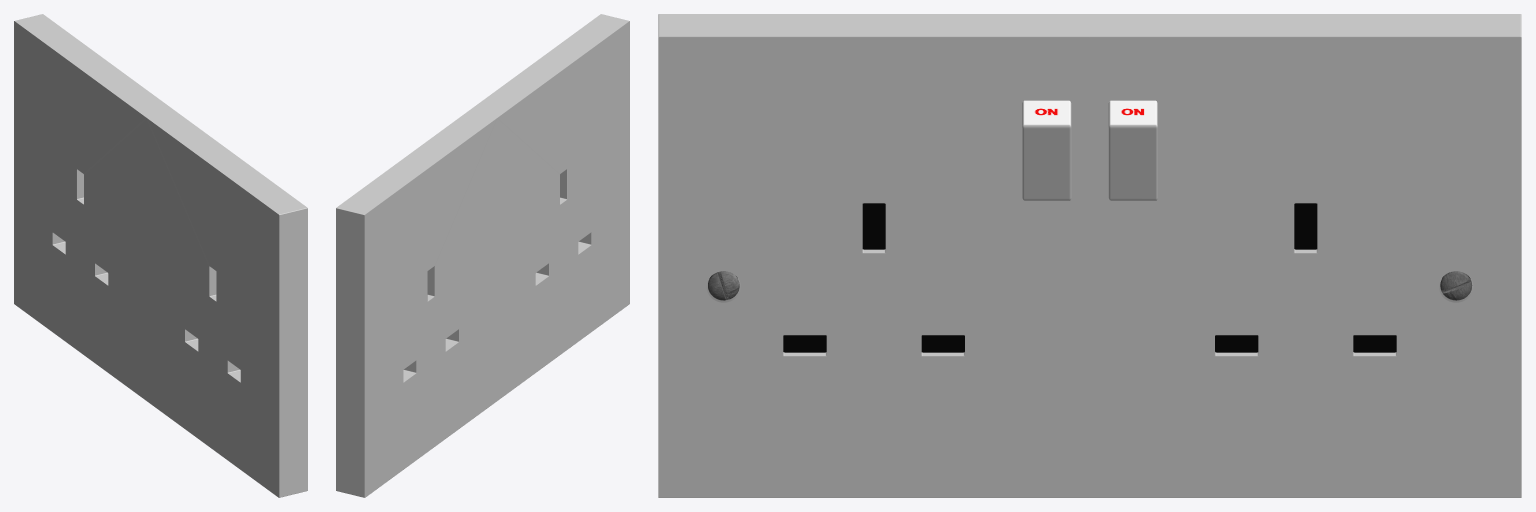
Rendered from wall_socket_2.glb.
The picture shows the model from 3 angles, left to right: view 1: azimuth 30°, elevation 25°; view 2: azimuth 150°, elevation 25°; view 3: azimuth 270°, elevation 25°; orthographic projection. The views are drawn at different scales.
Visible parts, largest first — view 1: Object_3; view 2: Object_3; view 3: Object_3, Object_5, Plane, Object_2.
Part boxes in pixels (x1,y1,x2,y2): Object_3: (14, 14, 307, 497); Object_3: (336, 14, 629, 497); Object_3: (658, 14, 1521, 497); Object_5: (1022, 100, 1157, 200); Plane: (709, 203, 1470, 352); Object_2: (708, 271, 1472, 300).
Size of the model in its own units: 0.0203 by 0.1179 by 0.2.
4 materials, 2 textured.
